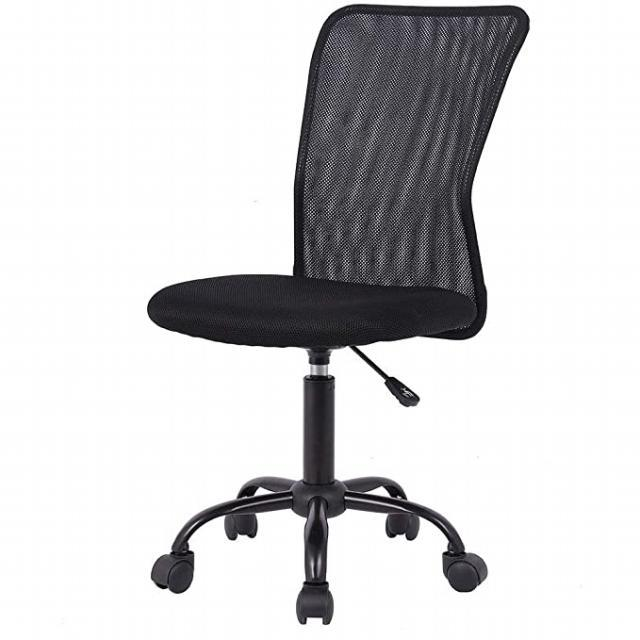chair: (140, 4, 530, 624)
